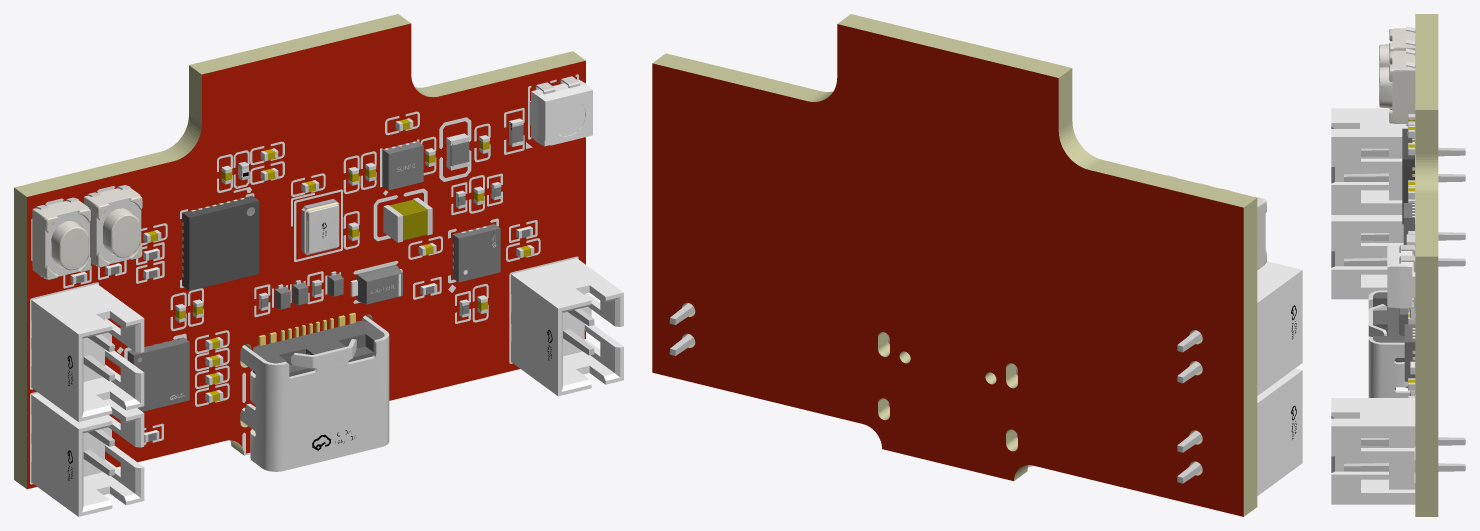
The model's file is dcmotor2ch.glb.
3 views of the same model, side by side, from view 1: azimuth 30°, elevation 25°; view 2: azimuth 150°, elevation 25°; view 3: azimuth 270°, elevation 25° (orthographic). The views are drawn at different scales.
Visible parts, largest first — view 1: Node; view 2: Node; view 3: Node.
Part boxes in pixels (<box>): Node: <box>14,14,623,516</box>; Node: <box>652,14,1302,516</box>; Node: <box>1331,14,1465,516</box>.
Bounding box in the file's own units: 39.97 × 26.75 × 9.34.
